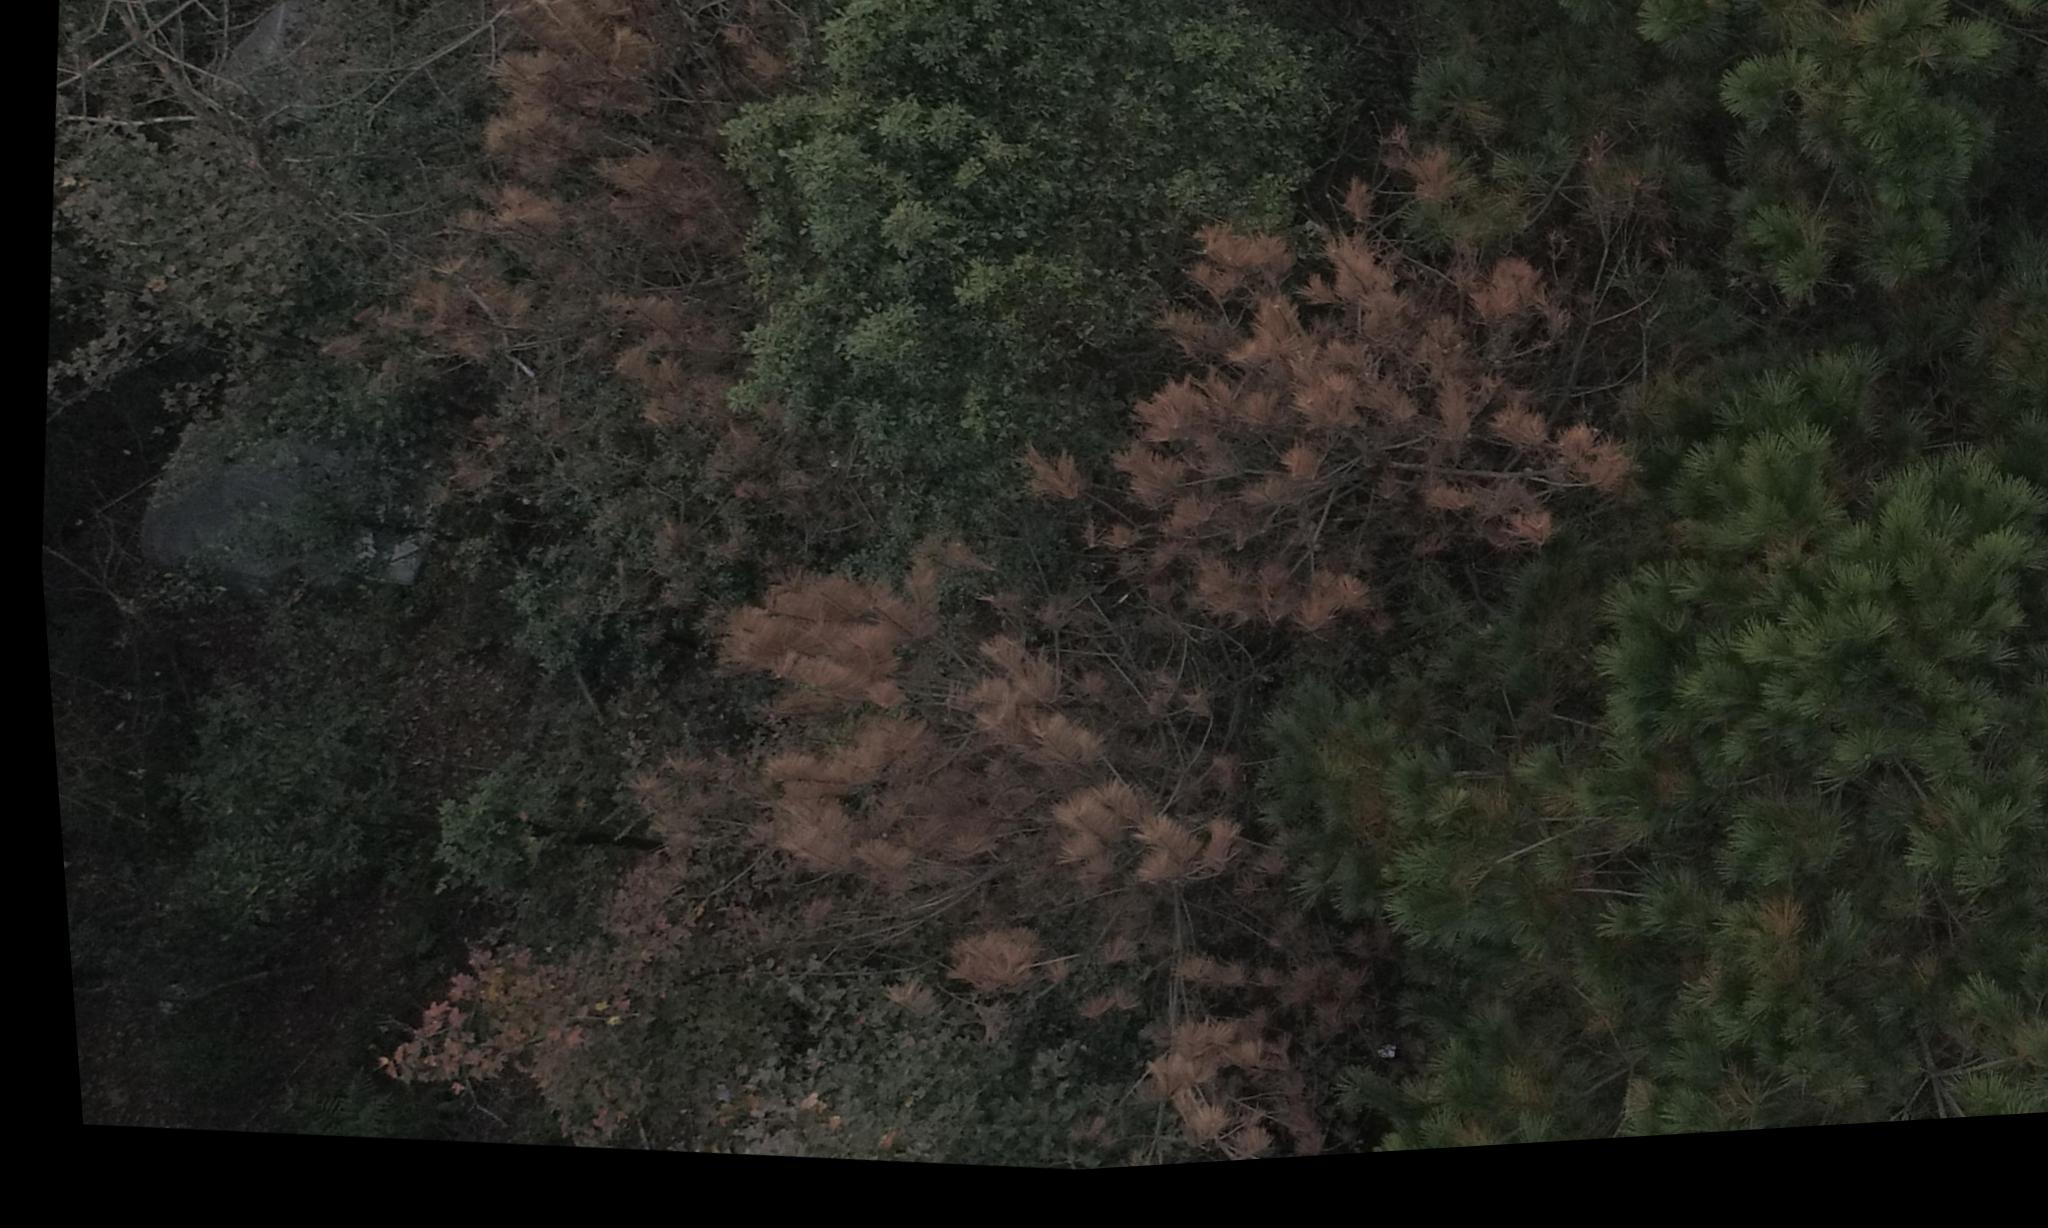heavy: (1076, 140, 1659, 678), (623, 532, 1105, 1044), (406, 0, 819, 501), (1054, 785, 1332, 1181)
light: (1419, 731, 1820, 1048)
